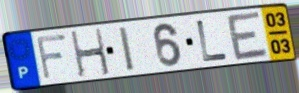6: (152, 21, 183, 69)
E: (225, 9, 271, 63)
F: (34, 32, 69, 82)
H: (68, 26, 112, 79)
I: (117, 25, 137, 74)
L: (195, 18, 230, 63)
